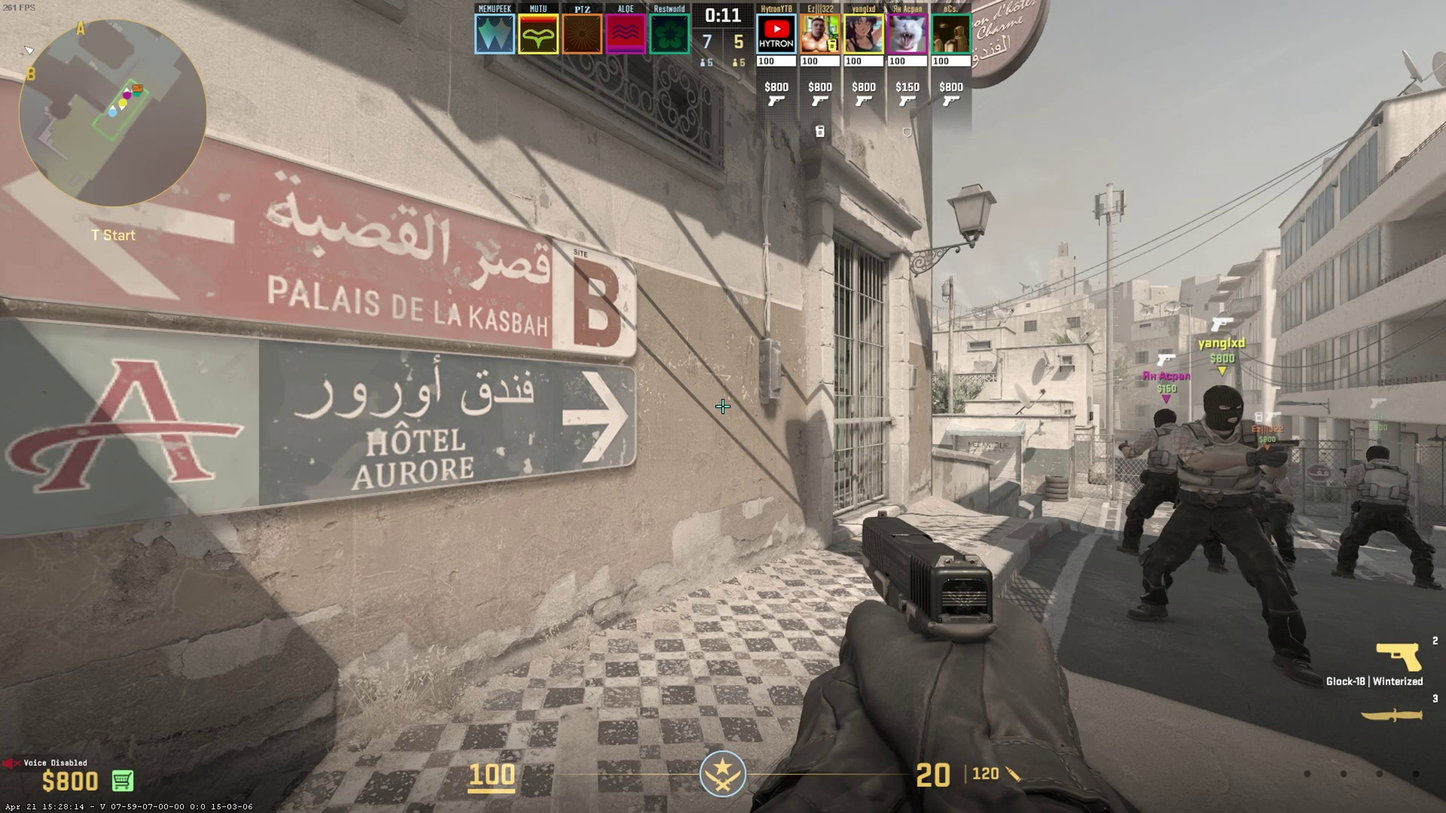Terrorist: (1177, 384, 1307, 683), (1335, 444, 1439, 588), (1112, 409, 1177, 551)
